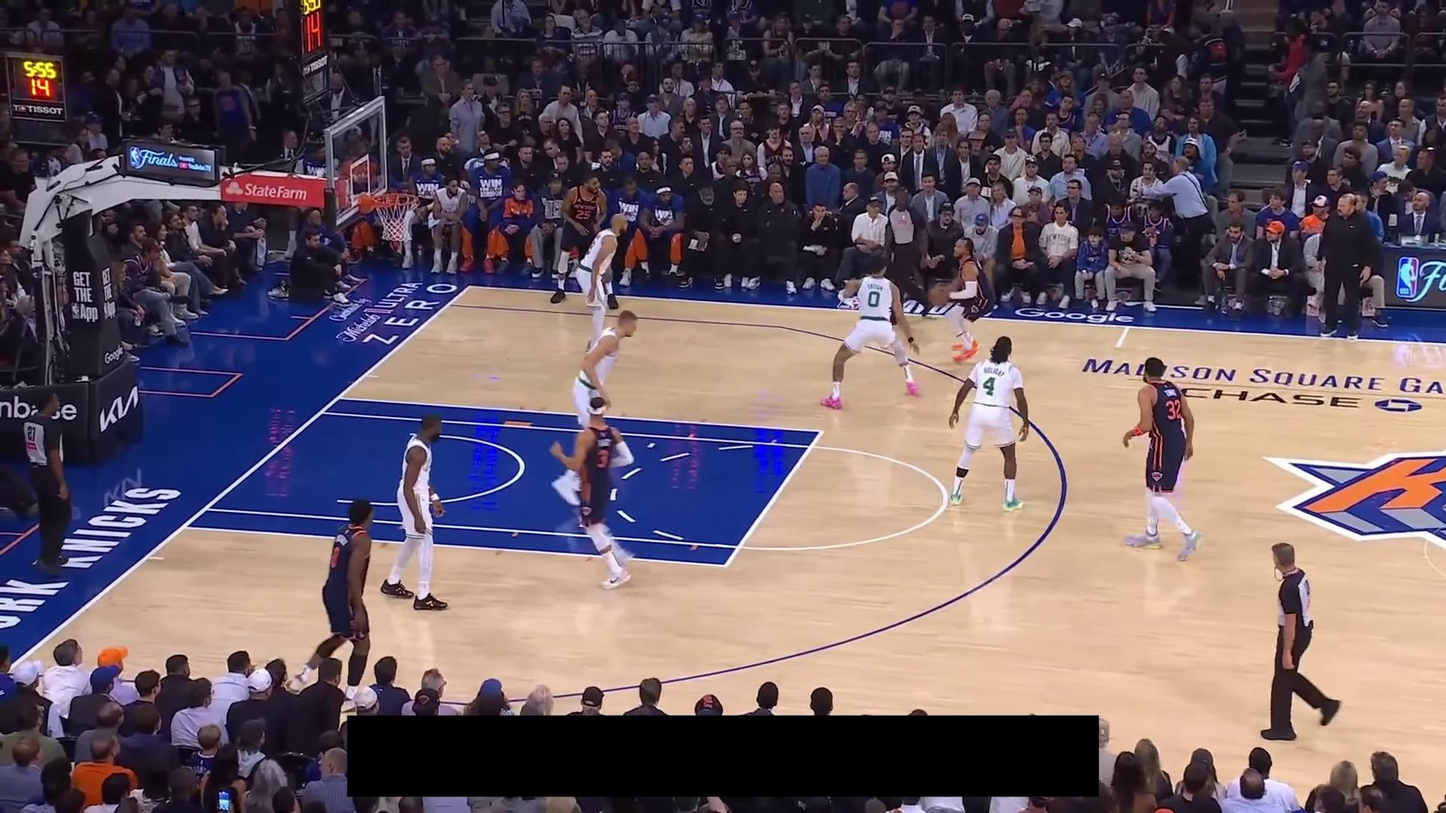ball: (928, 285, 950, 306)
number: (1166, 399, 1181, 420), (983, 376, 996, 396), (597, 450, 610, 469), (868, 291, 880, 308), (575, 209, 591, 221)
player: (284, 496, 379, 715), (548, 394, 637, 591), (553, 309, 639, 508), (1121, 356, 1203, 563), (819, 257, 920, 410), (947, 335, 1031, 513), (380, 411, 451, 611), (548, 172, 619, 309), (574, 212, 630, 356)
player-in-possession: (928, 236, 997, 362)
referee: (1258, 542, 1342, 741), (22, 389, 74, 577), (883, 187, 933, 327)
rim: (372, 192, 419, 206)
